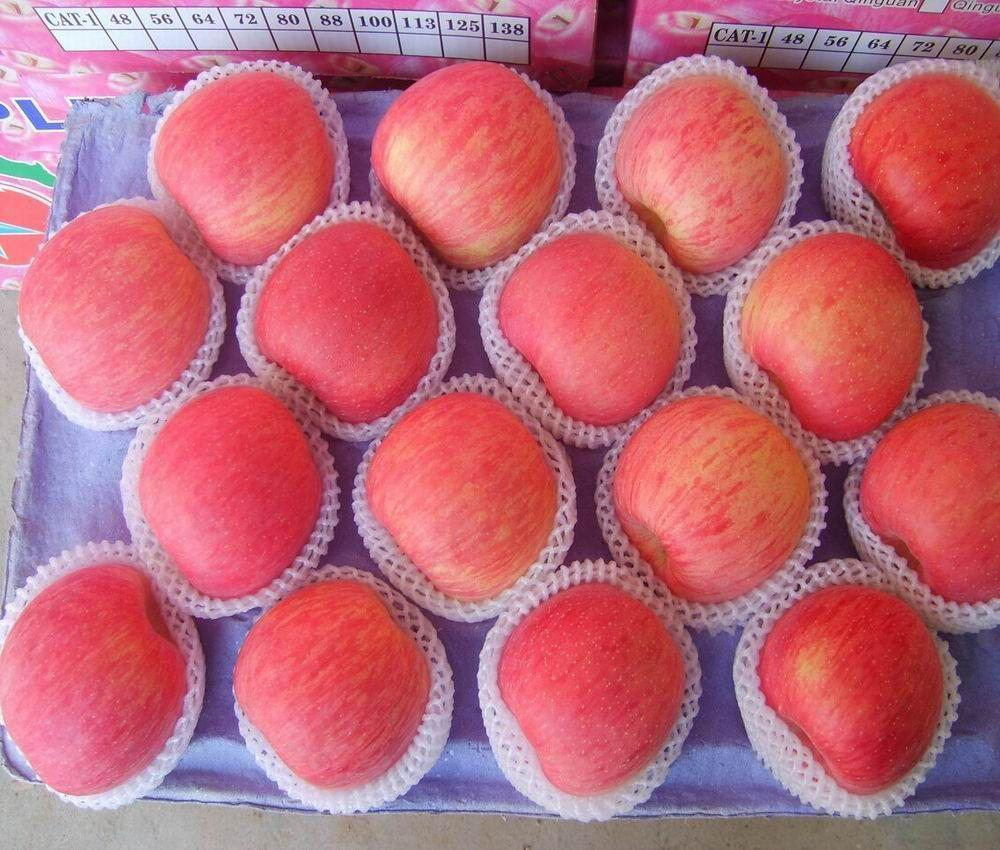apple: (1, 556, 205, 807), (602, 394, 819, 600), (367, 59, 573, 274), (498, 579, 690, 803), (753, 581, 945, 803), (231, 579, 430, 791), (363, 392, 556, 609), (134, 385, 322, 601), (18, 205, 211, 415), (736, 231, 928, 442), (251, 220, 444, 423), (497, 226, 685, 429), (152, 67, 335, 267), (607, 73, 785, 275), (854, 401, 1000, 619), (844, 73, 1000, 277)
